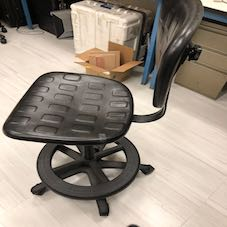chair: (7, 16, 205, 212)
